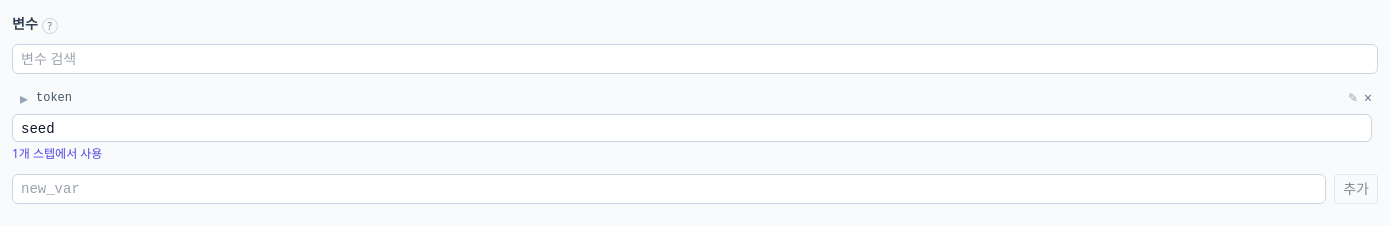
Scenario: VariablesPanel › 검색어가 팝오버 앵커 행을 필터링하면 열린 사용처 팝오버를 닫는다 (whole-branch 리뷰 fold-in)
This screenshot has width=1390, height=226.
Click the button "1개 스텝에서 사용" at coordinates (57, 154), box [12,146,1372,162]
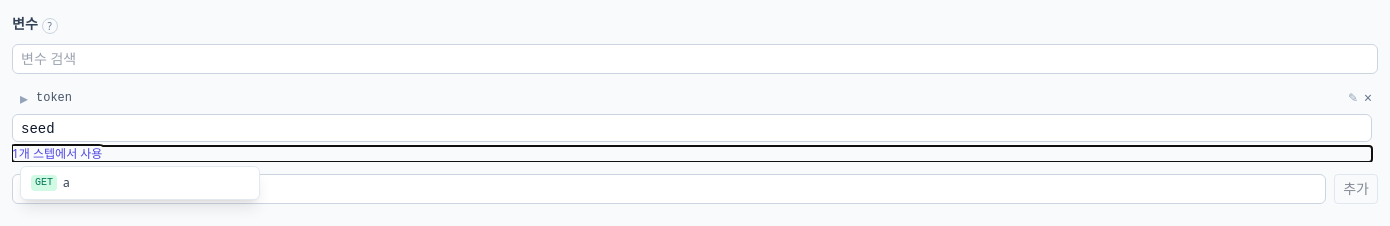
Now the menu named "사용 스텝 목록" is shown, box [20,166,260,200]
Type "zzz" into the field with placeholder "변수 검색" at coordinates (695, 59), box [12,44,1378,74]
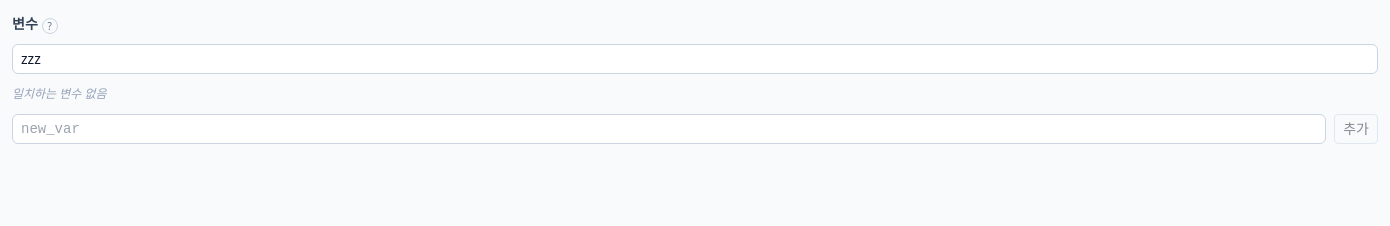
Now the menu is gone
